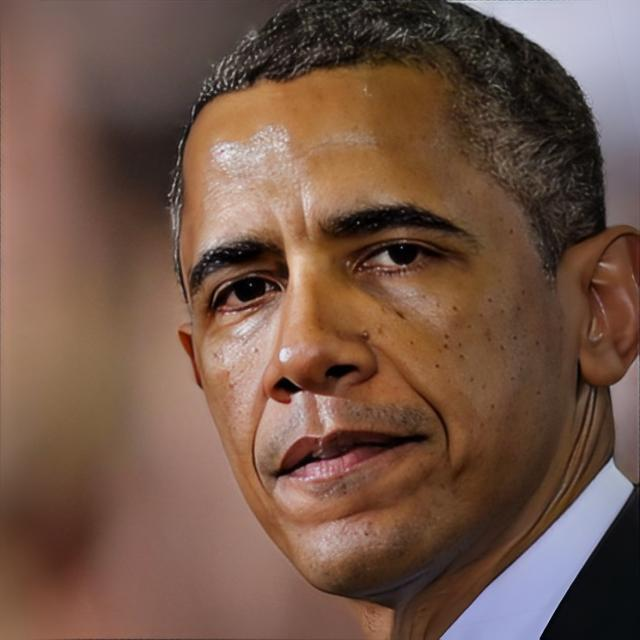anger: (184, 51, 576, 588)
